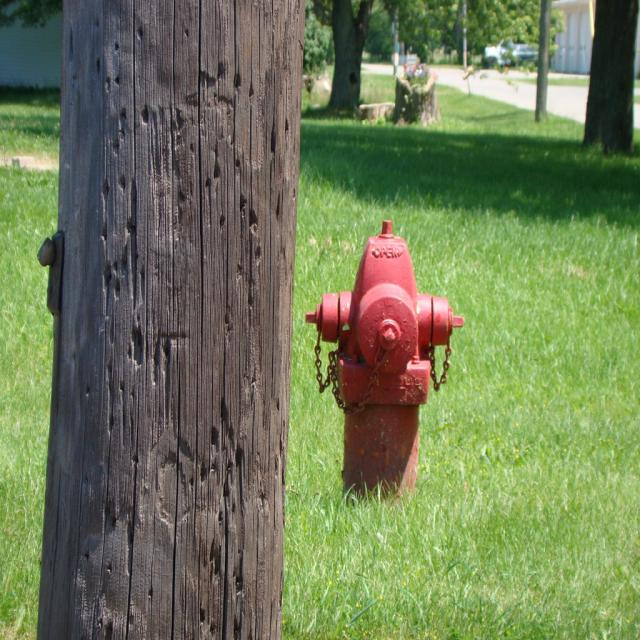fire_hydrant: (304, 217, 464, 502)
